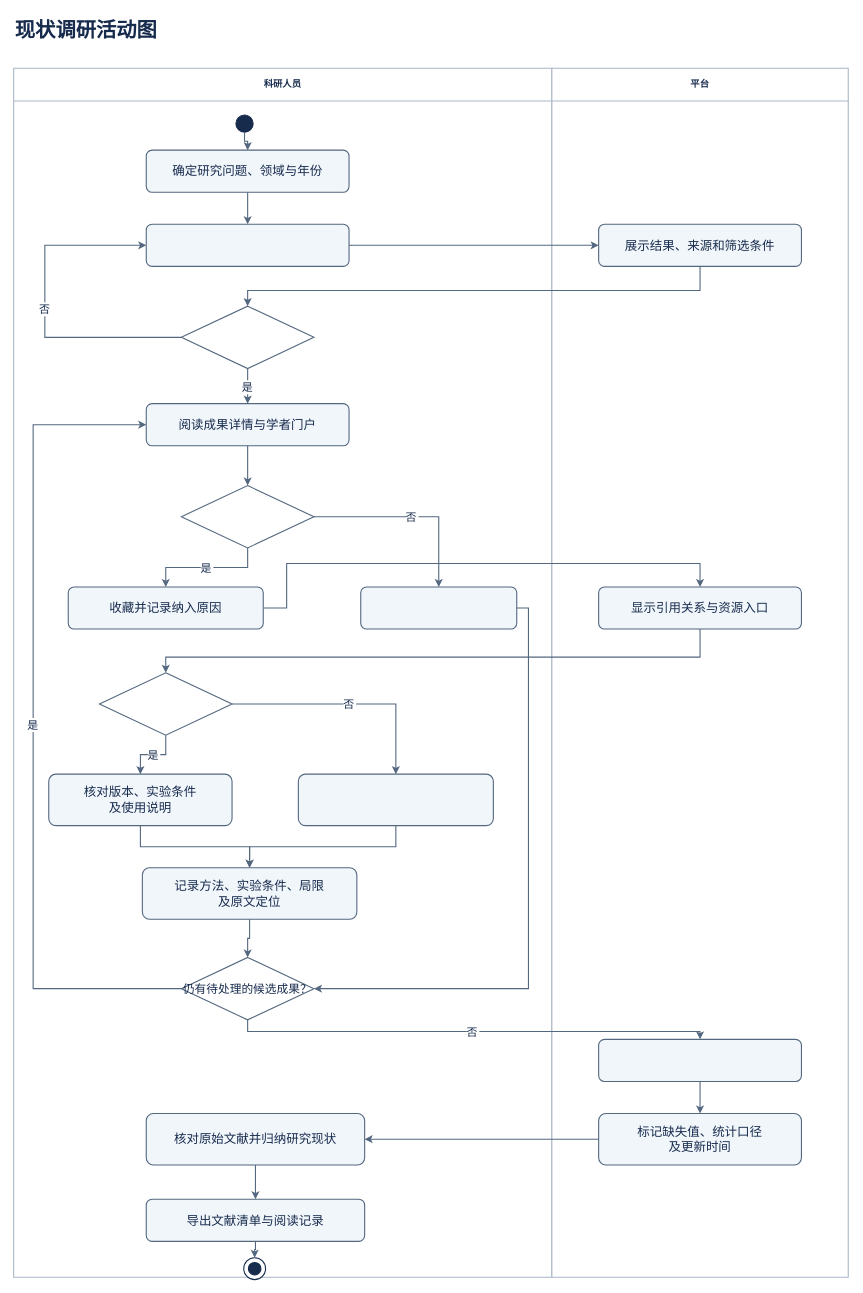
Some shapes in this 863 by 1293 pixel diagram are drawn without their labels. Here are the shapes that lost their labels. From the top down, the box of each, then its label:
(145, 223, 349, 267): 输入或调整检索条件
(180, 305, 314, 369): 结果范围符合调研要求？
(180, 485, 314, 548): 成果与研究问题相关？
(360, 586, 517, 629): 记录排除原因
(99, 672, 232, 735): 资源可以访问？
(297, 773, 494, 826): 记录缺失或受限状态
(598, 1038, 802, 1082): 展示统计及文献对比
